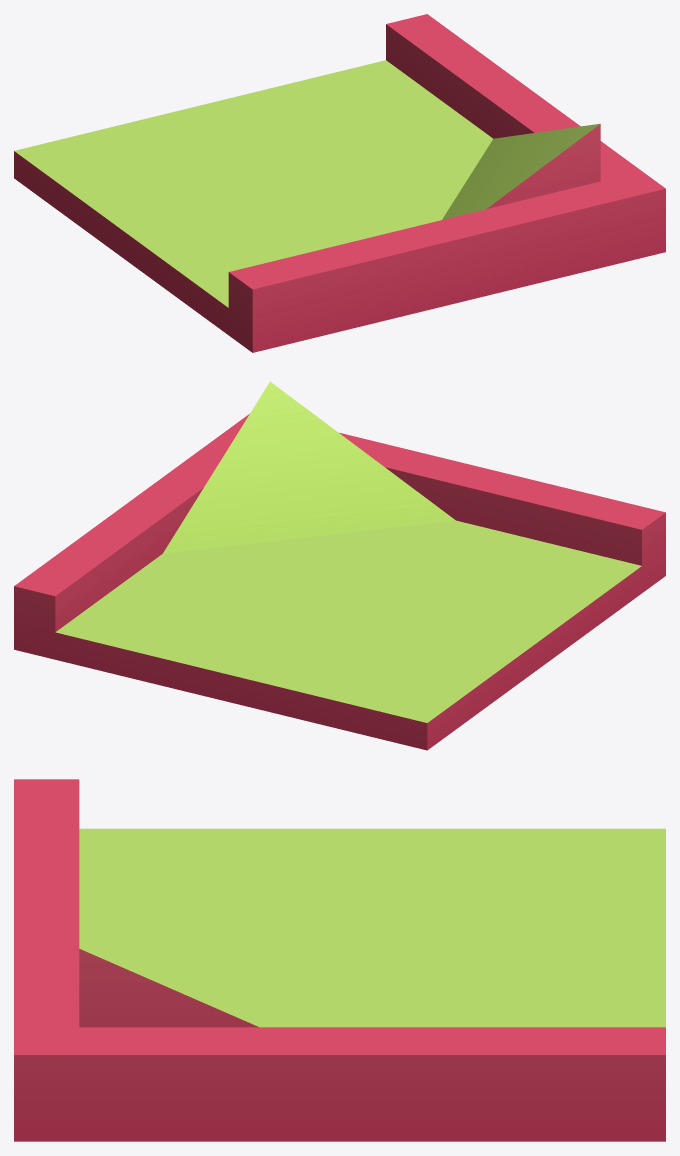
File: hill-corner.gltf
3 renders of one model, top to bottom at view 1: azimuth 30°, elevation 25°; view 2: azimuth 150°, elevation 25°; view 3: azimuth 270°, elevation 25°, orthographic. The views are drawn at different scales.
Visible parts, largest first — view 1: hill-corner; view 2: hill-corner; view 3: hill-corner.
Boxes of the visible parts, bbox=[...] form: hill-corner: bbox=[14, 14, 665, 352]; hill-corner: bbox=[14, 381, 665, 750]; hill-corner: bbox=[14, 779, 665, 1141].
Bounding box in the file's own units: 0.9999 × 0.28 × 0.9999.
Materials: 1 (1 with a texture image).
